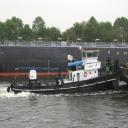tugboat: (8, 50, 121, 99)
